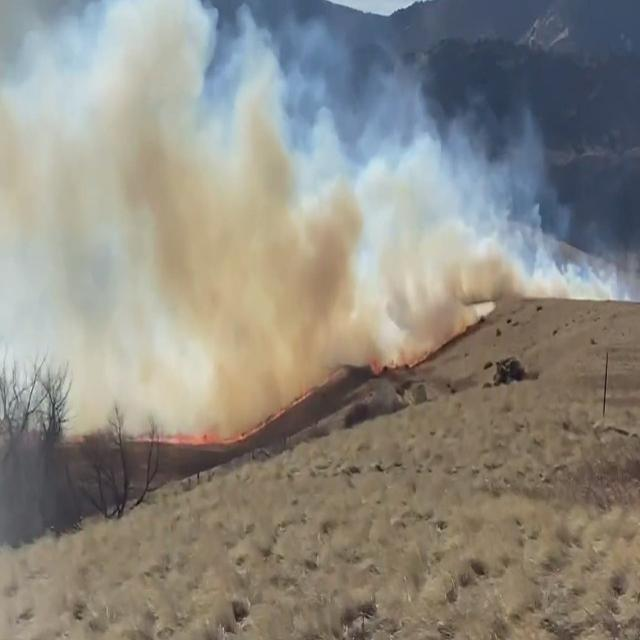Smoke: (0, 0, 445, 393), (334, 76, 626, 306)
